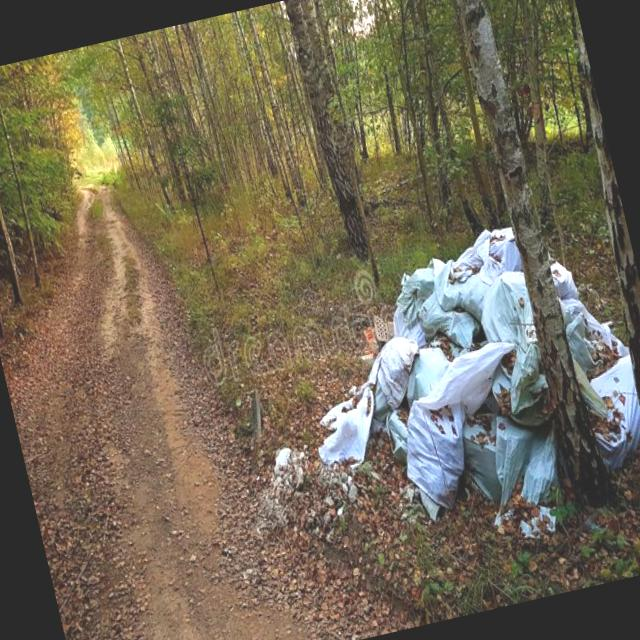garbage: (268, 198, 640, 573)
